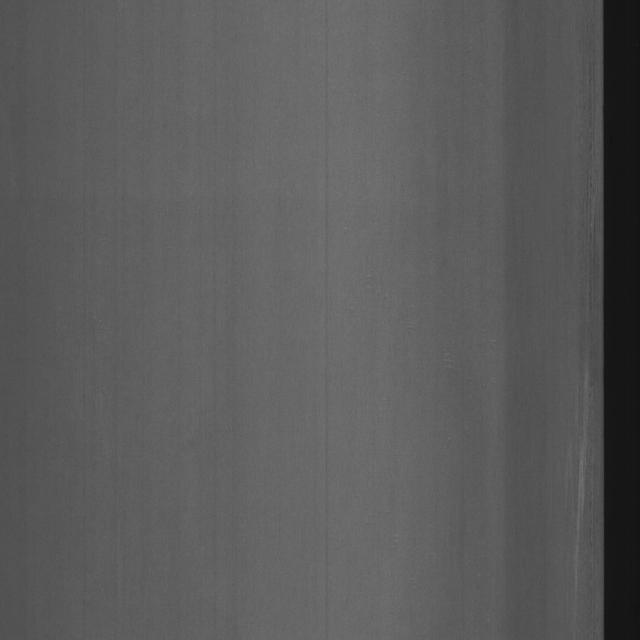inclusion: (560, 51, 598, 612)
